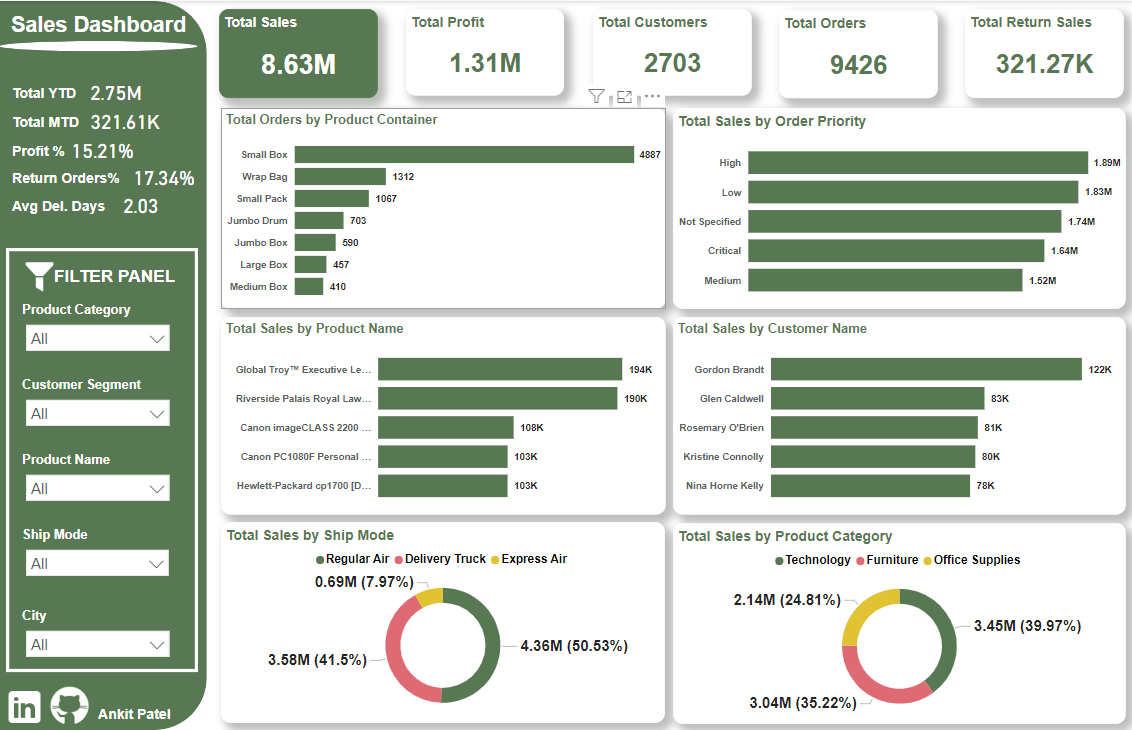

What the dashboard file says about the page in this screenshot:
{"tool":"powerbi","page":{"name":"Page 1","canvas":[1400,900],"ordinal":0},"visuals":[{"type":"shape","box":[0,0,256.6,899.9],"z":0},{"type":"shape","box":[8.5,304.8,237.1,523.6],"z":1000},{"type":"textbox","box":[0,10.2,245.8,52.8],"z":2000},{"type":"image","box":[50.1,839,72.8,60.9],"z":3000},{"type":"image","box":[0,842.6,63.3,57.3],"z":4000},{"type":"actionButton","title":"Ankit Patel","box":[121.7,870.1,95.5,26.3],"z":5000},{"type":"image","box":[18.3,316.1,63.5,49.4],"z":6000},{"type":"actionButton","title":"FILTER PANEL","box":[67.7,328.8,153.8,25.4],"z":7000},{"type":"slicer","title":"Product Category","fields":{"Values":["Orders.Product Category"]},"box":[23.9,372.4,196.9,77.6],"z":8000},{"type":"slicer","title":"Customer Segment","fields":{"Values":["Orders.Customer Segment"]},"box":[23.9,465.2,196.9,77.6],"z":9000},{"type":"slicer","title":"Product Name","fields":{"Values":["Orders.Product Name"]},"box":[23.9,558,196.9,77.6],"z":10000},{"type":"slicer","title":"Ship Mode","fields":{"Values":["Orders.Ship Mode"]},"box":[24,650.8,196.2,84.7],"z":11000},{"type":"slicer","title":"City","fields":{"Values":["Orders.City"]},"box":[23.9,750.7,196.9,77.6],"z":12000},{"type":"card","title":"Total Sales","fields":{"Values":["Measures Table.Total Sales"]},"box":[271.6,9.8,196.4,110],"z":13000},{"type":"card","title":"Total Profit","fields":{"Values":["Measures Table.Total Profit"]},"box":[502.9,9.8,195,107.3],"z":14000},{"type":"card","title":"Total Customers","fields":{"Values":["Measures Table.Total Customers"]},"box":[732.7,9.8,196.4,107.3],"z":15000},{"type":"card","title":"Total Return Sales","fields":{"Values":["Measures Table.Total Return Sales"]},"box":[1192.4,9.8,196.4,110],"z":16000},{"type":"card","title":"Total Orders","fields":{"Values":["Measures Table.Total Orders"]},"box":[962.6,11.1,196.4,108.7],"z":17000},{"type":"shape","box":[0,49.4,245.6,12.7],"z":18000},{"type":"card","fields":{"Values":["Measures Table.Total YTD"]},"box":[97.9,95.5,93.1,35.8],"z":19000},{"type":"card","fields":{"Values":["Measures Table.Total MTD"]},"box":[97.4,128.4,115.7,39.5],"z":20000},{"type":"card","fields":{"Values":["Measures Table.Return orders %"]},"box":[156.7,200.4,93.1,36.7],"z":21000},{"type":"card","fields":{"Values":["Measures Table.Profit %"]},"box":[52.2,169.4,151,31],"z":22000},{"type":"actionButton","title":"Total YTD","box":[15.5,103.8,95.5,27.5],"z":23000},{"type":"actionButton","title":"Total MTD","box":[15.5,139.7,96,28.2],"z":24000},{"type":"actionButton","title":"Profit %","box":[15.5,175.7,96,22.6],"z":25000},{"type":"actionButton","title":"Return Orders%","box":[15.5,208.9,141.1,28.2],"z":26000},{"type":"barChart","fields":{"Category":["Orders.Product Container"],"Y":["Measures Table.Total Orders"]},"box":[274.5,132.5,549,248.3],"z":27000},{"type":"barChart","fields":{"Category":["Orders.Order Priority"],"Y":["Measures Table.Total Sales"]},"box":[831.6,132.3,558.6,248],"z":28000},{"type":"barChart","fields":{"Category":["Orders.Product Name"],"Y":["Measures Table.Total Sales"]},"box":[274.4,390,548.9,243.8],"z":29000},{"type":"barChart","fields":{"Category":["Orders.Customer Name"],"Y":["Measures Table.Total Sales"]},"box":[831.6,390,558.6,243.8],"z":30000},{"type":"donutChart","fields":{"Category":["Orders.Ship Mode"],"Y":["Measures Table.Total Sales"]},"box":[274.5,643.3,547.8,248.3],"z":31000},{"type":"donutChart","fields":{"Category":["Orders.Product Category"],"Y":["Measures Table.Total Sales"]},"box":[832,644,559,248],"z":32000},{"type":"actionButton","title":"Avg Del. Days","box":[15.5,242.7,141.1,28.2],"z":33000},{"type":"card","fields":{"Values":["Avg(Orders.Delivery Days)"]},"box":[128.4,232.9,93.1,38.1],"z":34000}]}

Visuals, with their boxes in screenshot pixels (x1, y1, x2, y2), scaled from the page's 1400x900 canvas onto the 1132x730 screenshot:
shape: <bbox>0, 0, 207, 729</bbox>
shape: <bbox>7, 247, 199, 672</bbox>
textbox: <bbox>0, 8, 199, 51</bbox>
image: <bbox>41, 681, 99, 729</bbox>
image: <bbox>0, 683, 51, 729</bbox>
"Ankit Patel" actionButton: <bbox>98, 706, 176, 727</bbox>
image: <bbox>15, 256, 66, 296</bbox>
"FILTER PANEL" actionButton: <bbox>55, 267, 179, 287</bbox>
"Product Category" slicer: <bbox>19, 302, 179, 365</bbox>
"Customer Segment" slicer: <bbox>19, 377, 179, 440</bbox>
"Product Name" slicer: <bbox>19, 453, 179, 516</bbox>
"Ship Mode" slicer: <bbox>19, 528, 178, 597</bbox>
"City" slicer: <bbox>19, 609, 179, 672</bbox>
"Total Sales" card: <bbox>220, 8, 378, 97</bbox>
"Total Profit" card: <bbox>407, 8, 564, 95</bbox>
"Total Customers" card: <bbox>592, 8, 751, 95</bbox>
"Total Return Sales" card: <bbox>964, 8, 1123, 97</bbox>
"Total Orders" card: <bbox>778, 9, 937, 97</bbox>
shape: <bbox>0, 40, 199, 50</bbox>
card - Measures Table.Total YTD: <bbox>79, 77, 154, 106</bbox>
card - Measures Table.Total MTD: <bbox>79, 104, 172, 136</bbox>
card - Measures Table.Return orders %: <bbox>127, 163, 202, 192</bbox>
card - Measures Table.Profit %: <bbox>42, 137, 164, 163</bbox>
"Total YTD" actionButton: <bbox>13, 84, 90, 106</bbox>
"Total MTD" actionButton: <bbox>13, 113, 90, 136</bbox>
"Profit %" actionButton: <bbox>13, 143, 90, 161</bbox>
"Return Orders%" actionButton: <bbox>13, 169, 127, 192</bbox>
barChart - Orders.Product Container x Measures Table.Total Orders: <bbox>222, 107, 666, 309</bbox>
barChart - Orders.Order Priority x Measures Table.Total Sales: <bbox>672, 107, 1124, 308</bbox>
barChart - Orders.Product Name x Measures Table.Total Sales: <bbox>222, 316, 666, 514</bbox>
barChart - Orders.Customer Name x Measures Table.Total Sales: <bbox>672, 316, 1124, 514</bbox>
donutChart - Orders.Ship Mode x Measures Table.Total Sales: <bbox>222, 522, 665, 723</bbox>
donutChart - Orders.Product Category x Measures Table.Total Sales: <bbox>673, 522, 1125, 724</bbox>
"Avg Del. Days" actionButton: <bbox>13, 197, 127, 220</bbox>
card - Avg(Orders.Delivery Days): <bbox>104, 189, 179, 220</bbox>
